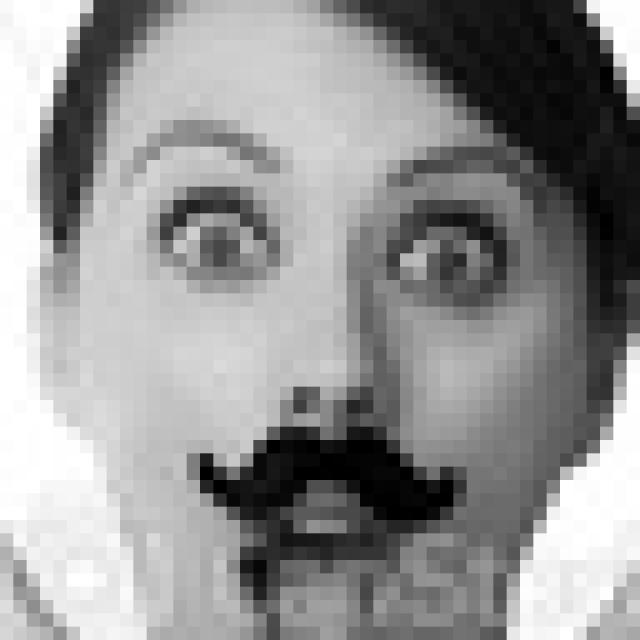surprise: (113, 107, 563, 570)
